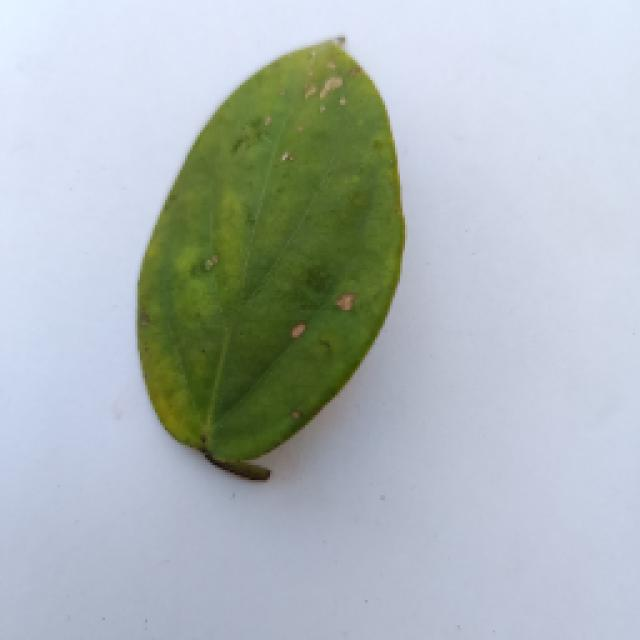slow-decline: (112, 28, 418, 488)
